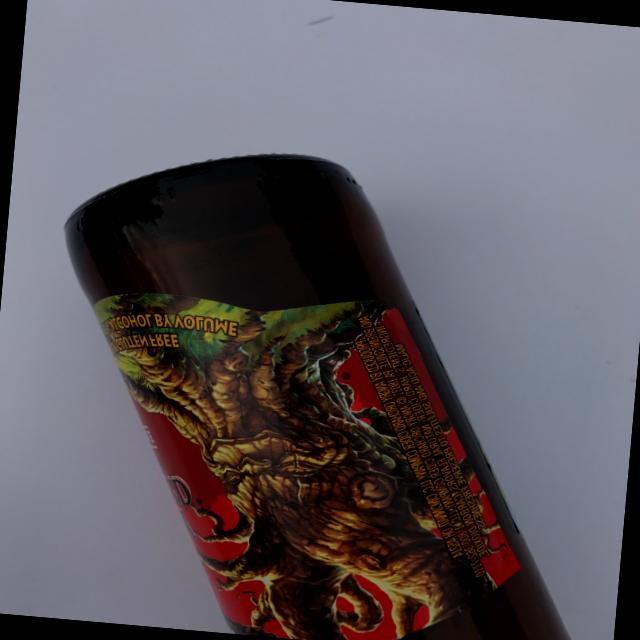Glass: (18, 125, 634, 640)
